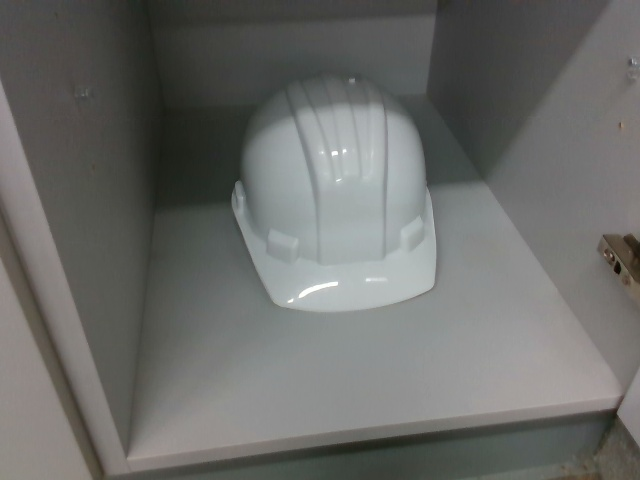helmet: (223, 66, 444, 318)
